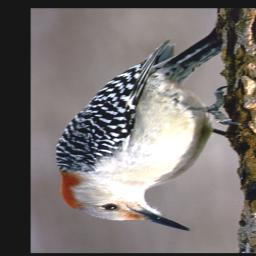Woodpecker: (55, 38, 240, 232)
